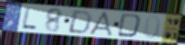0: (142, 15, 163, 40)
8: (43, 7, 64, 33)
A: (87, 11, 116, 38)
D: (66, 9, 94, 35), (116, 13, 144, 39)
L: (20, 6, 38, 31)
